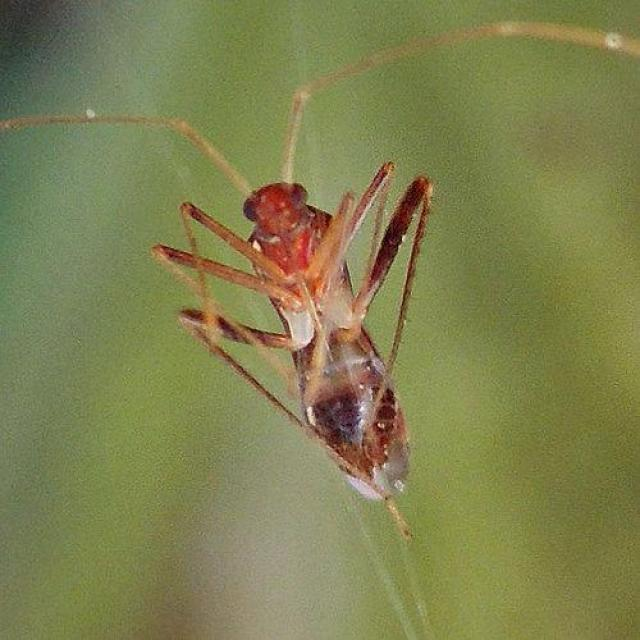Miridae-Adult-: (39, 41, 551, 508)
